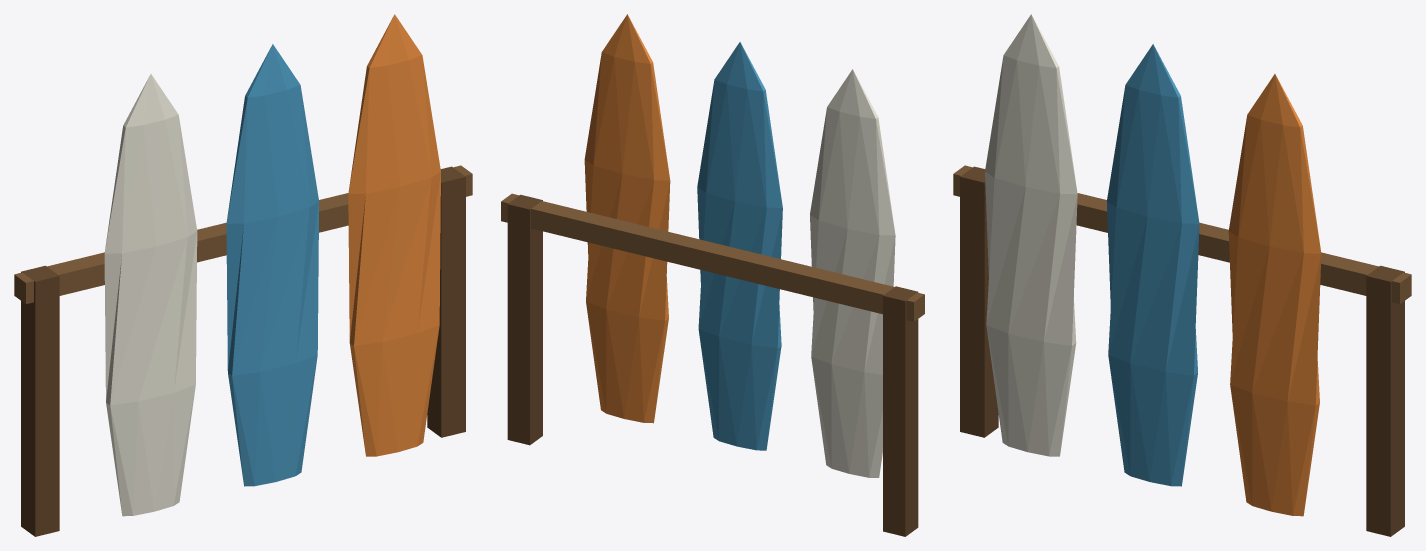
Rendered from surfboards.glb.
3 views of the same model, side by side, from view 1: azimuth 30°, elevation 25°; view 2: azimuth 150°, elevation 25°; view 3: azimuth 330°, elevation 25° (orthographic). The views are drawn at different scales.
Parts seen in each view (by area): view 1: surfboards2; view 2: surfboards2; view 3: surfboards2.
Part boxes in pixels (x1,y1,x2,y2): surfboards2: (14,14,472,536); surfboards2: (501,14,924,536); surfboards2: (953,14,1411,536).
Bounding box in the file's own units: 2.2 × 2.15 × 0.3576.
